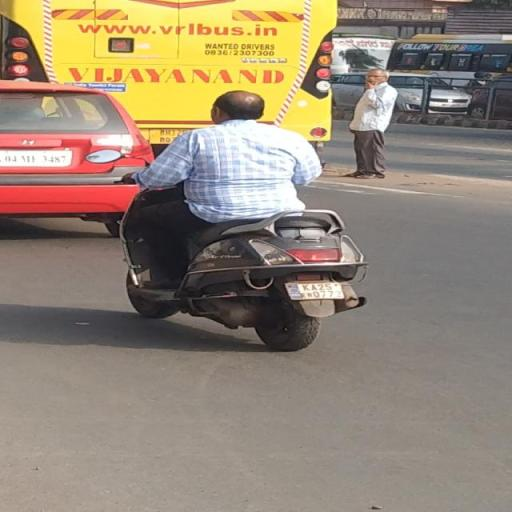bike: (89, 85, 380, 355)
numberplate: (285, 278, 348, 301)
withouthelmet: (216, 92, 264, 122)
